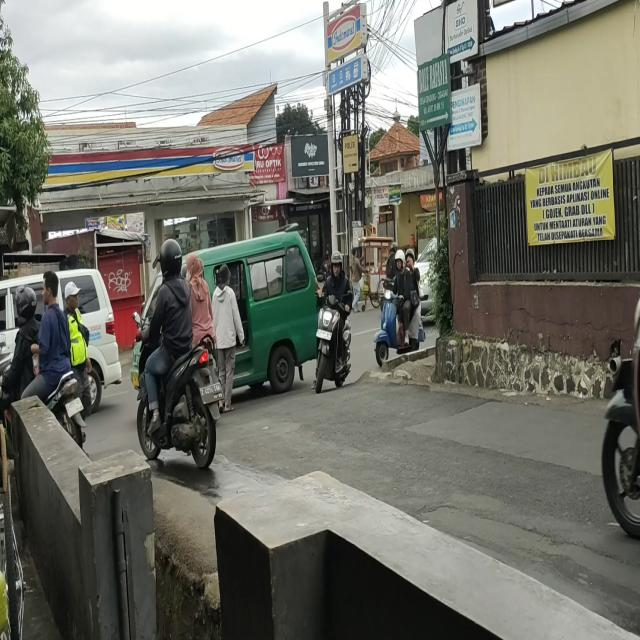helmet: (156, 238, 183, 276), (328, 248, 349, 282), (16, 286, 36, 316), (406, 249, 415, 268), (396, 251, 406, 268)
no-helmet: (40, 272, 59, 301), (186, 256, 203, 278)
